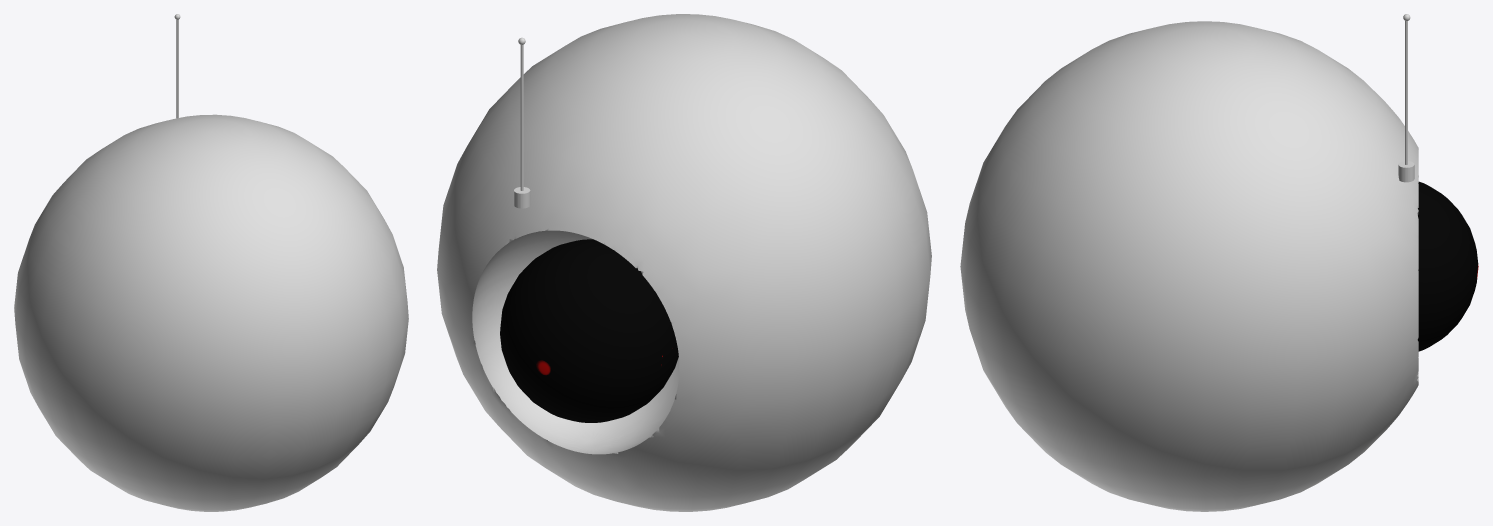
The model's file is Cambot.fbx.
3 renders of one model, left to right at view 1: azimuth 30°, elevation 25°; view 2: azimuth 150°, elevation 25°; view 3: azimuth 270°, elevation 25°, orthographic. The views are drawn at different scales.
Visible parts, largest first — view 1: Sphere.001; view 2: Sphere.001, Sphere, Antenna; view 3: Sphere.001, Sphere, Antenna.
Boxes of the visible parts, x1,y1,x2,y2 form: Sphere.001: (14, 114, 408, 511); Sphere.001: (437, 14, 931, 511); Sphere: (500, 239, 678, 422); Antenna: (514, 37, 530, 208); Sphere.001: (960, 21, 1418, 511); Sphere: (1417, 181, 1478, 351); Antenna: (1398, 14, 1414, 182).
Bounding box in the file's own units: 197 × 225 × 209.
